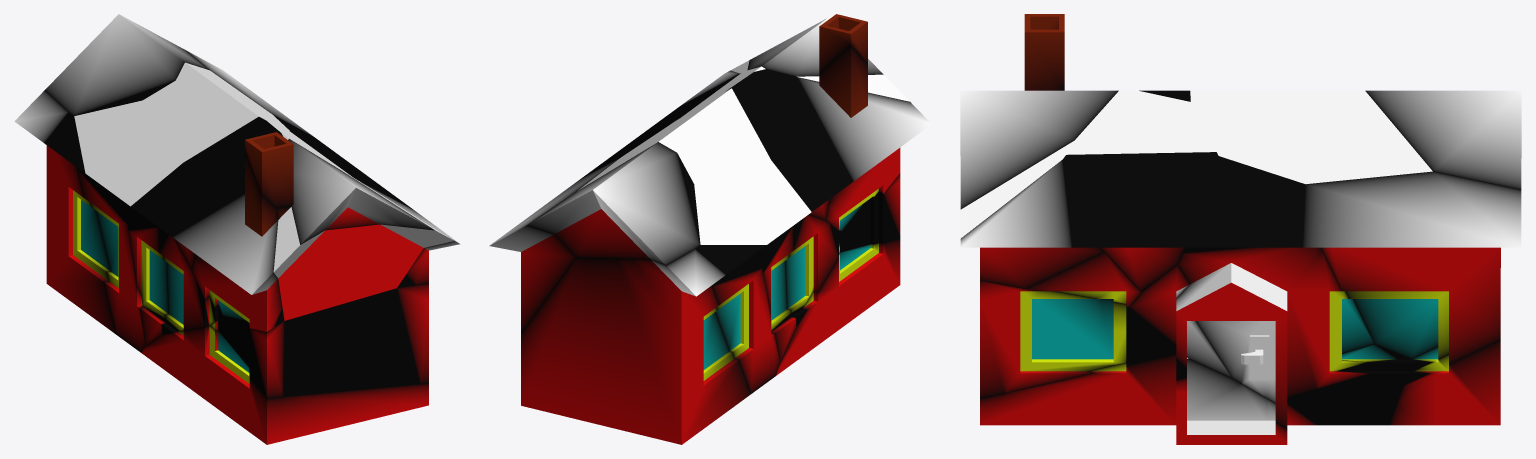
File: Village_House_1_D.fbx
3 renders of one model, left to right at view 1: azimuth 30°, elevation 25°; view 2: azimuth 150°, elevation 25°; view 3: azimuth 270°, elevation 25°, orthographic. The views are drawn at different scales.
Parts seen in each view (by area): view 1: Village_House_1_fracturepart7, Village_House_1_fracturepart10, Village_House_1_fracturepart6_2, Village_House_1_fracturepart3, Village_House_1_fracturepart16_2, Village_House_1_fracturepart14, Village_House_1_fracturepart1, Village_House_1_fracturepart9, Village_House_1_fracturepart12_2, Village_House_1_fracturepart5, Village_House_1_fracturepart19, Village_House_1_fracturepart17 (+8 smaller); view 2: Village_House_1_fracturepart3, Village_House_1_fracturepart14, Village_House_1_fracturepart9, Village_House_1_fracturepart16_2, Village_House_1_fracturepart1, Village_House_1_fracturepart5, Village_House_1_fracturepart10, Village_House_1_fracturepart19, Village_House_1_fracturepart4, Village_House_1_fracturepart11, Village_House_1_fracturepart7, Village_House_1_fracturepart17 (+8 smaller); view 3: Village_House_1_fracturepart4, Village_House_1_fracturepart15, Village_House_1_fracturepart10, Village_House_1_fracturepart18, Village_House_1_fracturepart13, Village_House_1_fracturepart7, Village_House_1_fracturepart8, Village_House_1_fracturepart12_2, Village_House_1_fracturepart14, Village_House_1_fracturepart3, Village_House_1_fracturepart2, Village_House_1_fracturepart17 (+5 smaller).
Part boxes in pixels (x1,y1,x2,y2): Village_House_1_fracturepart7: [210, 283, 428, 398]; Village_House_1_fracturepart10: [141, 325, 428, 444]; Village_House_1_fracturepart6_2: [273, 173, 454, 320]; Village_House_1_fracturepart3: [14, 90, 116, 334]; Village_House_1_fracturepart16_2: [172, 194, 284, 332]; Village_House_1_fracturepart14: [45, 14, 209, 115]; Village_House_1_fracturepart1: [74, 100, 182, 206]; Village_House_1_fracturepart9: [131, 117, 282, 269]; Village_House_1_fracturepart12_2: [288, 139, 434, 244]; Village_House_1_fracturepart5: [44, 112, 145, 352]; Village_House_1_fracturepart19: [143, 80, 270, 162]; Village_House_1_fracturepart17: [124, 202, 168, 345]; Village_House_1_fracturepart3: [521, 249, 751, 444]; Village_House_1_fracturepart14: [527, 142, 700, 265]; Village_House_1_fracturepart9: [726, 69, 852, 220]; Village_House_1_fracturepart16_2: [797, 77, 931, 231]; Village_House_1_fracturepart1: [694, 160, 811, 244]; Village_House_1_fracturepart5: [695, 245, 779, 393]; Village_House_1_fracturepart10: [776, 239, 900, 375]; Village_House_1_fracturepart19: [677, 88, 770, 183]; Village_House_1_fracturepart4: [489, 157, 620, 333]; Village_House_1_fracturepart11: [785, 214, 841, 326]; Village_House_1_fracturepart7: [839, 173, 900, 253]; Village_House_1_fracturepart17: [759, 226, 796, 362]; Village_House_1_fracturepart4: [1302, 171, 1521, 385]; Village_House_1_fracturepart15: [1176, 156, 1374, 428]; Village_House_1_fracturepart10: [980, 354, 1316, 444]; Village_House_1_fracturepart18: [1201, 90, 1432, 184]; Village_House_1_fracturepart13: [1062, 152, 1218, 292]; Village_House_1_fracturepart7: [980, 281, 1186, 398]; Village_House_1_fracturepart8: [960, 160, 1141, 307]; Village_House_1_fracturepart12_2: [960, 90, 1118, 209]; Village_House_1_fracturepart14: [1365, 90, 1521, 189]; Village_House_1_fracturepart3: [1389, 340, 1500, 425]; Village_House_1_fracturepart2: [1066, 90, 1216, 154]; Village_House_1_fracturepart17: [1287, 344, 1403, 425].
Bounding box in the file's own units: 443 × 530 × 828.
